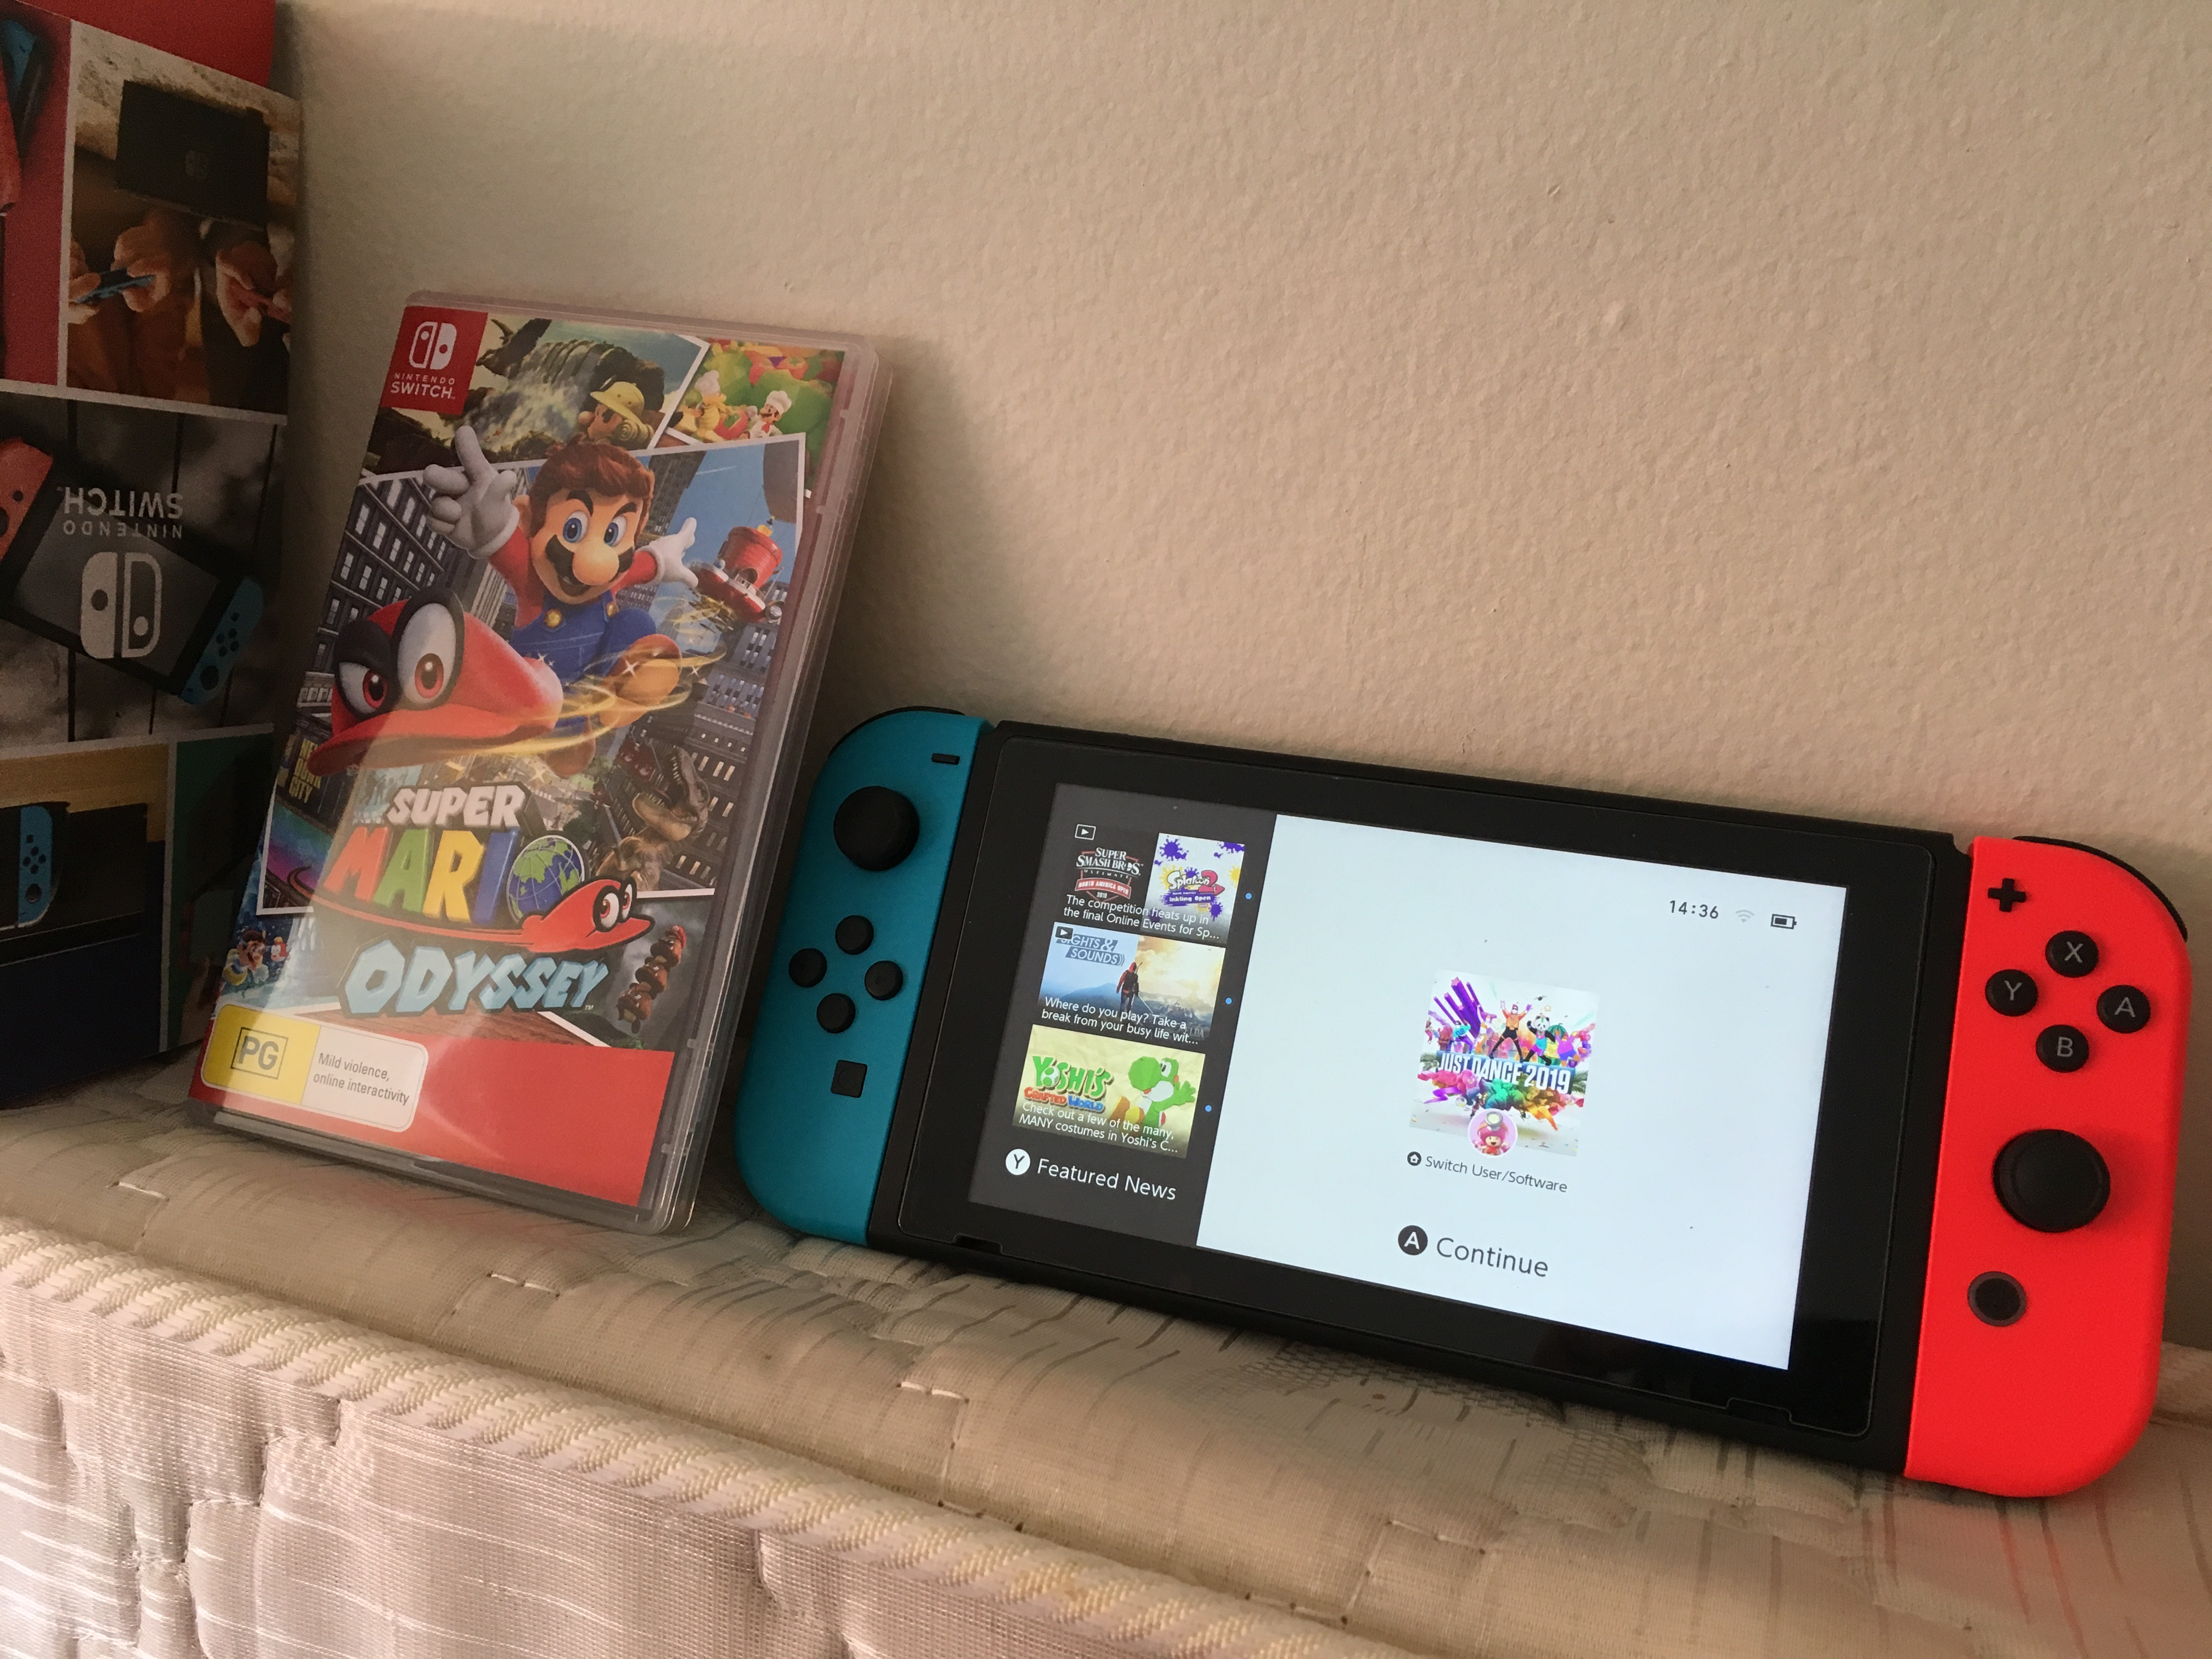NintendoSwitch: (721, 702, 2203, 1518)
